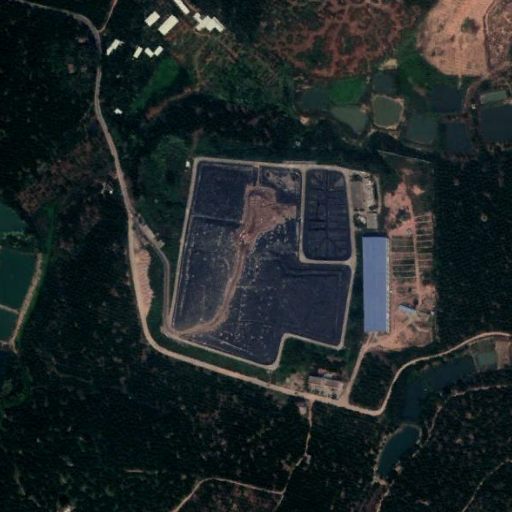lf: (167, 157, 356, 366)
